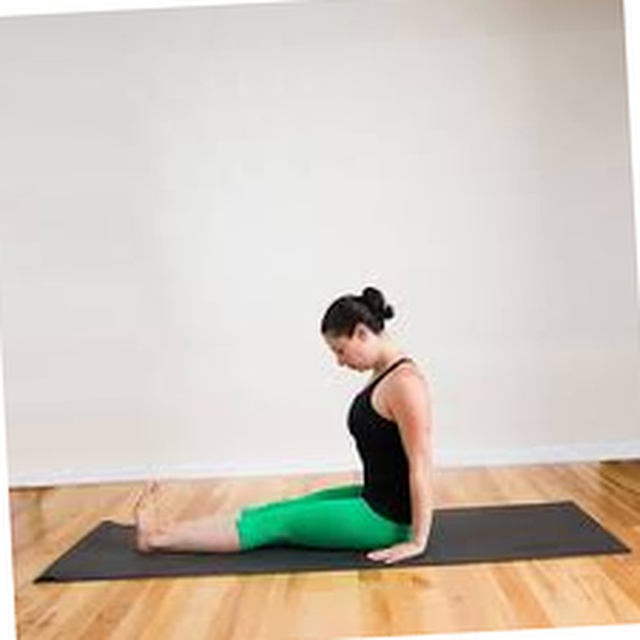Staff_Pose: (135, 283, 438, 564)
